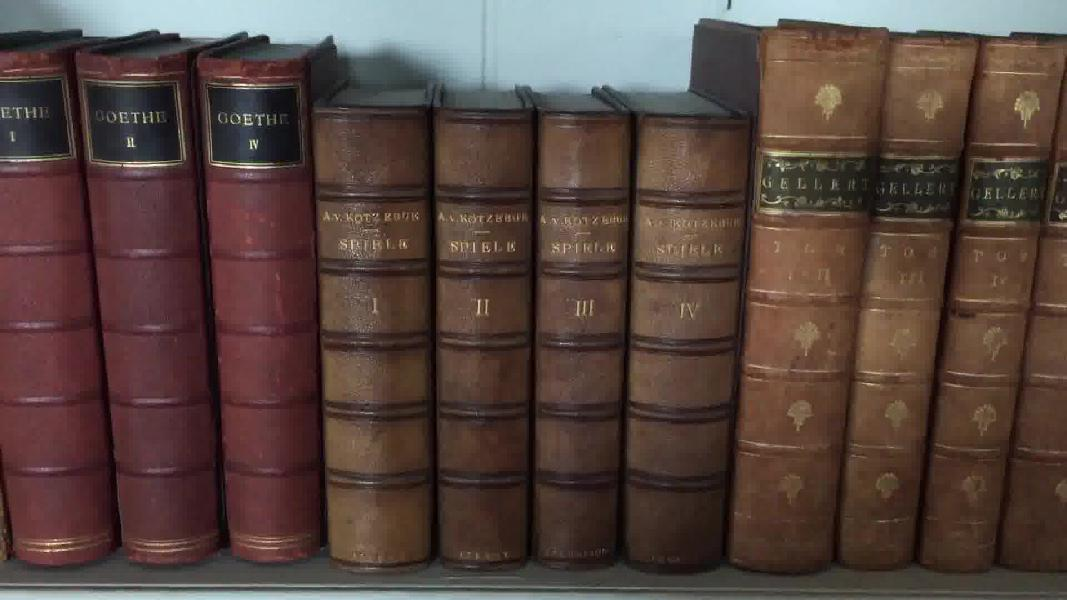Aa6-11_13: (2, 29, 317, 578)
Aa6-14_17: (304, 97, 765, 588)
Aa6-18_23: (743, 20, 1067, 599)
